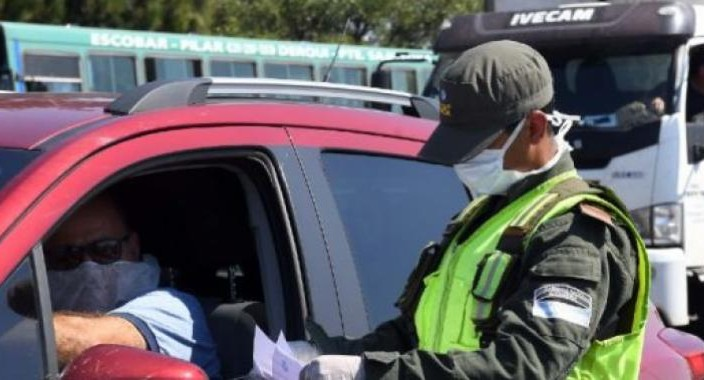with_mask: (440, 75, 578, 209), (48, 213, 148, 317)
